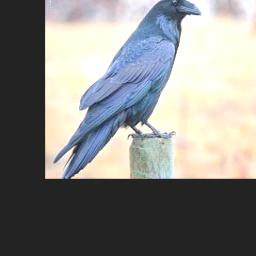Crow: (54, 0, 204, 178)
